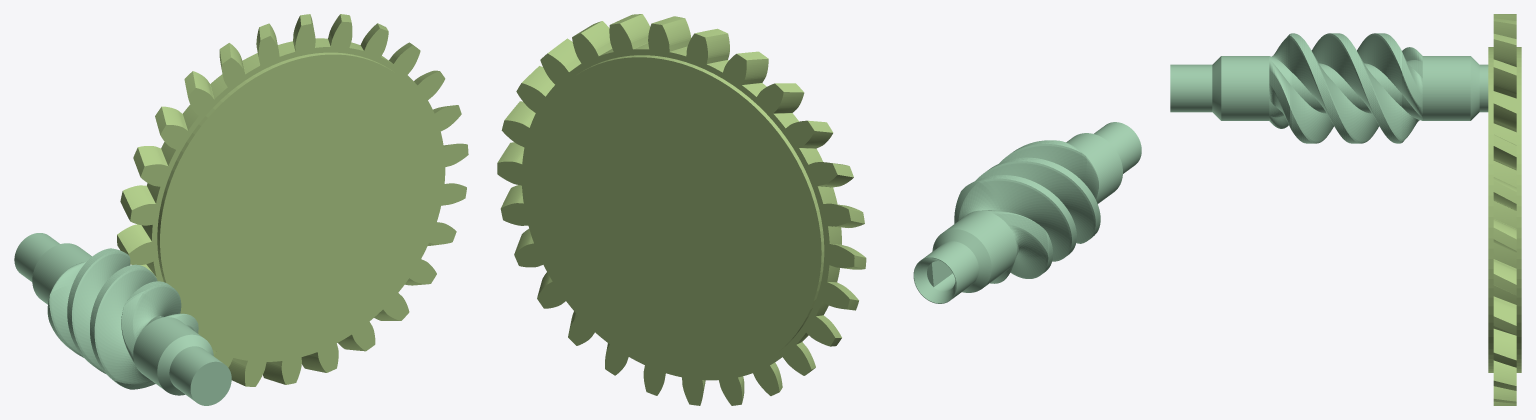
The model's file is worm_coupon_demo.glb.
3 renders of one model, left to right at view 1: azimuth 30°, elevation 25°; view 2: azimuth 150°, elevation 25°; view 3: azimuth 270°, elevation 25°, orthographic. The views are drawn at different scales.
Visible parts, largest first — view 1: coupon_wheel_band, coupon_worm; view 2: coupon_wheel_band, coupon_worm; view 3: coupon_worm, coupon_wheel_band.
Boxes of the visible parts, box(x1,y1,x2,y2) form: coupon_wheel_band: box(117, 14, 468, 386); coupon_worm: box(14, 233, 231, 405); coupon_wheel_band: box(497, 14, 866, 405); coupon_worm: box(913, 122, 1141, 303); coupon_worm: box(1170, 33, 1488, 143); coupon_wheel_band: box(1488, 14, 1521, 405).
Size of the model in its own units: 56.2 by 40.9 by 36.68.
